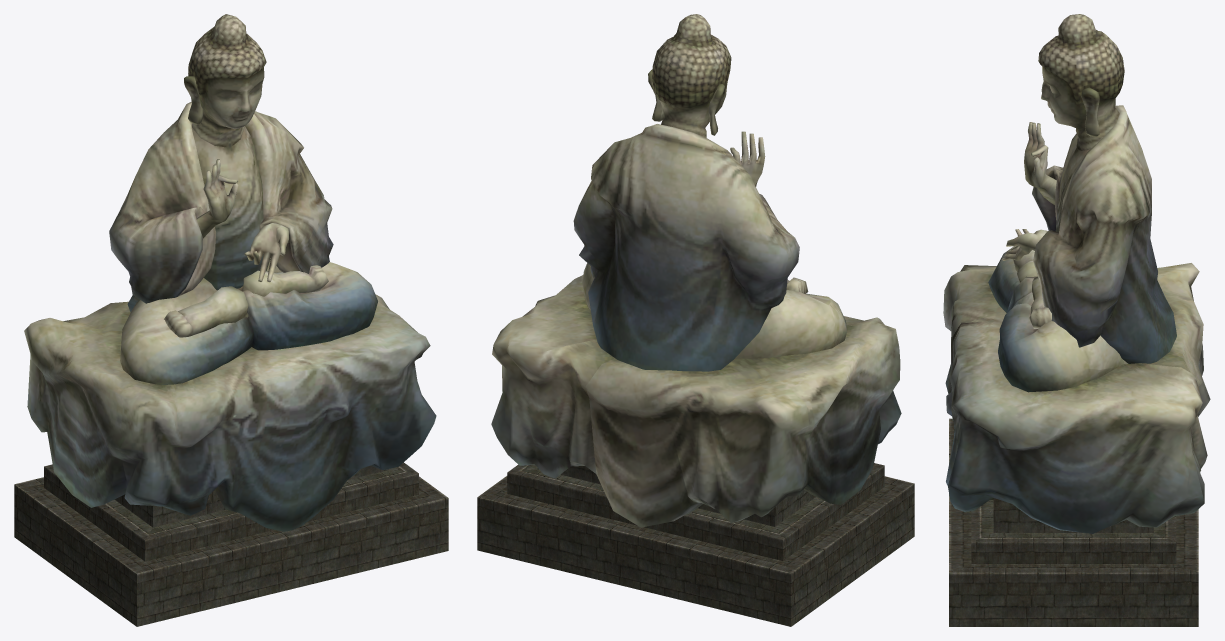
Rendered from environment_common_diaoxiang_003_a.FBX.
3 renders of one model, left to right at view 1: azimuth 30°, elevation 25°; view 2: azimuth 150°, elevation 25°; view 3: azimuth 270°, elevation 25°, orthographic.
Parts seen in each view (by area): view 1: environment_common_diaoxiang_003_a, environment_common_diaoxiang_003_b; view 2: environment_common_diaoxiang_003_a, environment_common_diaoxiang_003_b; view 3: environment_common_diaoxiang_003_a, environment_common_diaoxiang_003_b.
Part boxes in pixels (<box>): environment_common_diaoxiang_003_a: <box>24,14,436,531</box>; environment_common_diaoxiang_003_b: <box>14,462,448,626</box>; environment_common_diaoxiang_003_a: <box>491,14,901,527</box>; environment_common_diaoxiang_003_b: <box>477,463,914,626</box>; environment_common_diaoxiang_003_a: <box>943,14,1210,533</box>; environment_common_diaoxiang_003_b: <box>949,418,1198,626</box>.
Bounding box in the file's own units: 591 × 928 × 420.
